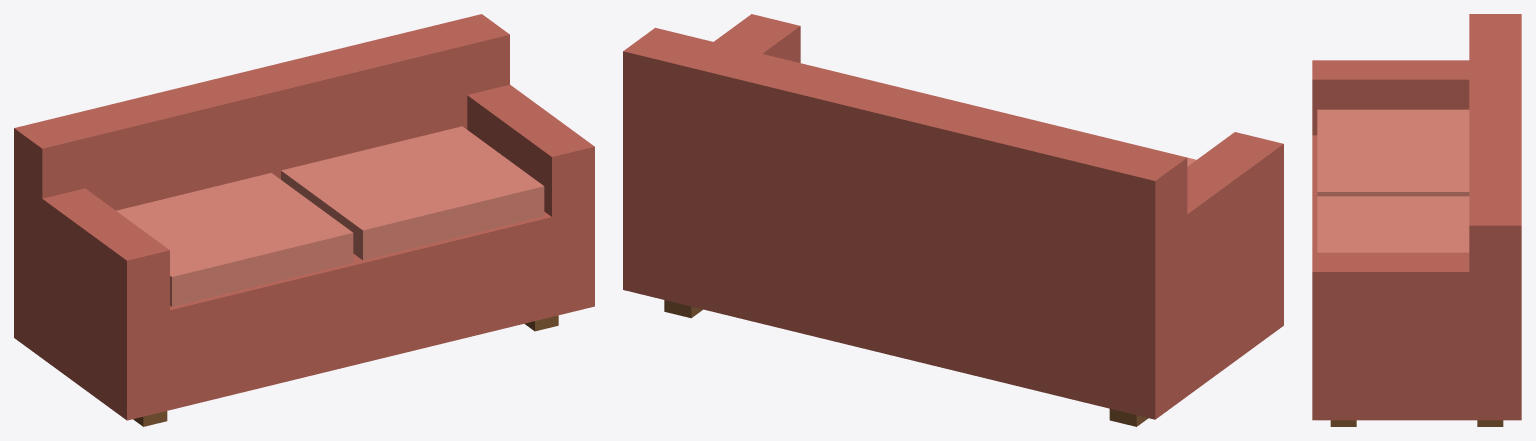
The model's file is loungeSofa.glb.
The picture shows the model from 3 angles, left to right: view 1: azimuth 30°, elevation 25°; view 2: azimuth 150°, elevation 25°; view 3: azimuth 270°, elevation 25°; orthographic projection. The views are drawn at different scales.
Visible parts, largest first — view 1: loungeSofa; view 2: loungeSofa; view 3: loungeSofa.
Boxes of the visible parts, x1,y1,x2,y2 form: loungeSofa: [14, 14, 594, 426]; loungeSofa: [623, 14, 1283, 426]; loungeSofa: [1312, 14, 1521, 426].
Bounding box in the file's own units: 0.98 × 0.46 × 0.41.
1 material, 1 textured.
